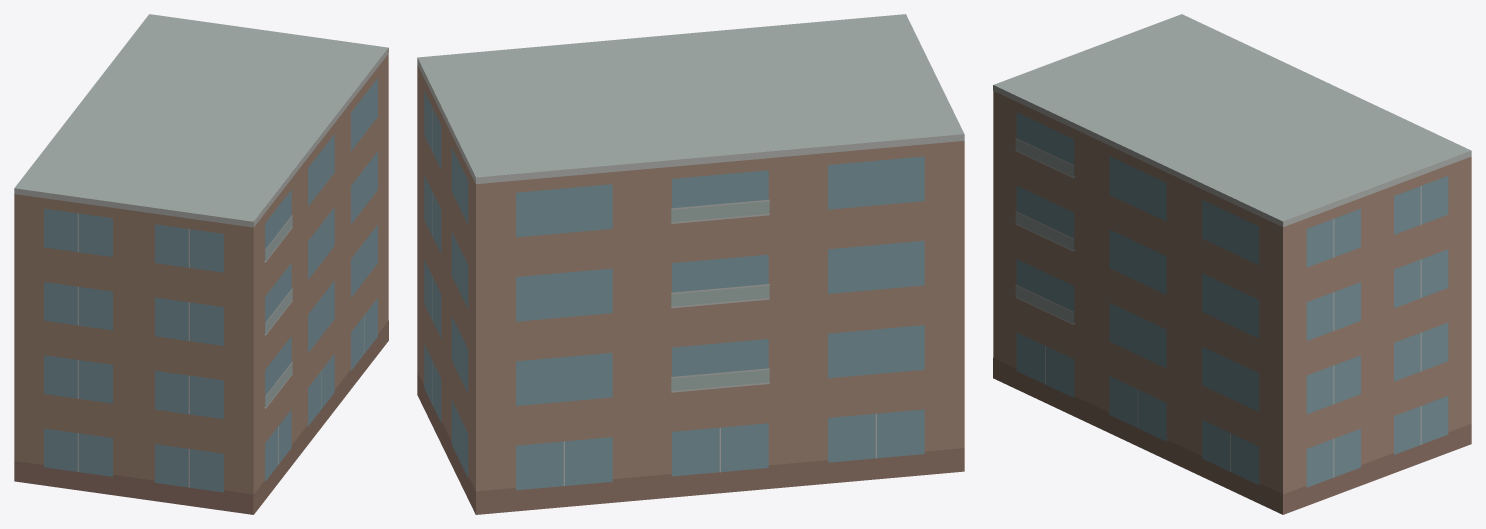
The model's file is survey-upis-32780485.glb.
3 renders of one model, left to right at view 1: azimuth 30°, elevation 25°; view 2: azimuth 150°, elevation 25°; view 3: azimuth 270°, elevation 25°, orthographic. The views are drawn at different scales.
Visible parts, largest first — view 1: survey-upis-32780485.tmp; view 2: survey-upis-32780485.tmp; view 3: survey-upis-32780485.tmp.
Part boxes in pixels (x1,y1,x2,y2): survey-upis-32780485.tmp: [14, 14, 388, 514]; survey-upis-32780485.tmp: [417, 14, 964, 514]; survey-upis-32780485.tmp: [993, 14, 1471, 514].
Size of the model in its own units: 18.82 by 12.4 by 18.34.
